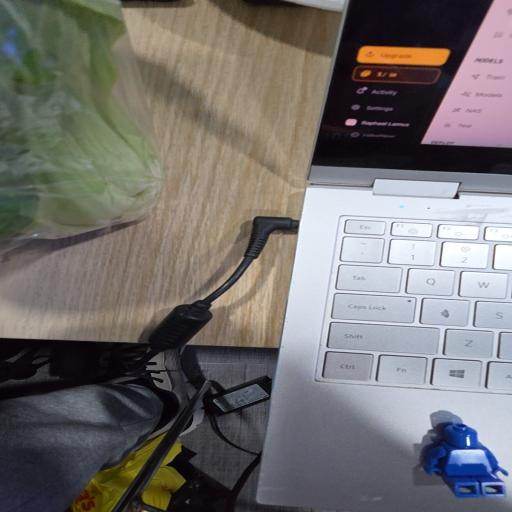Blue: (423, 423, 508, 497)
